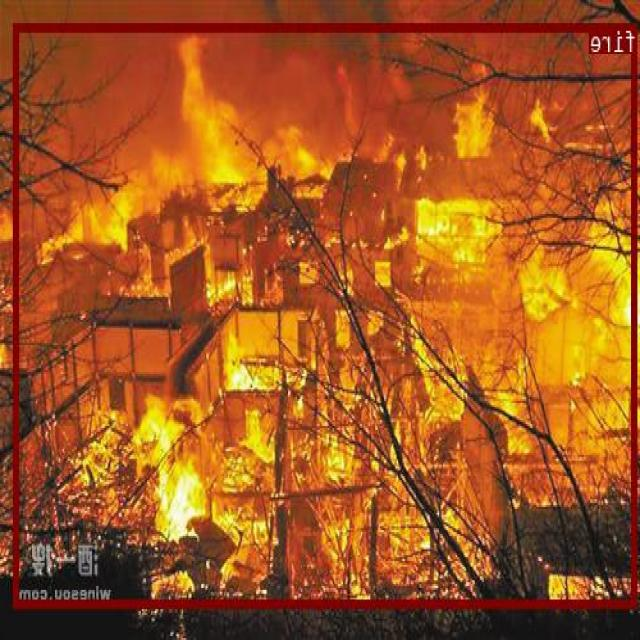fire: (14, 22, 638, 607)
